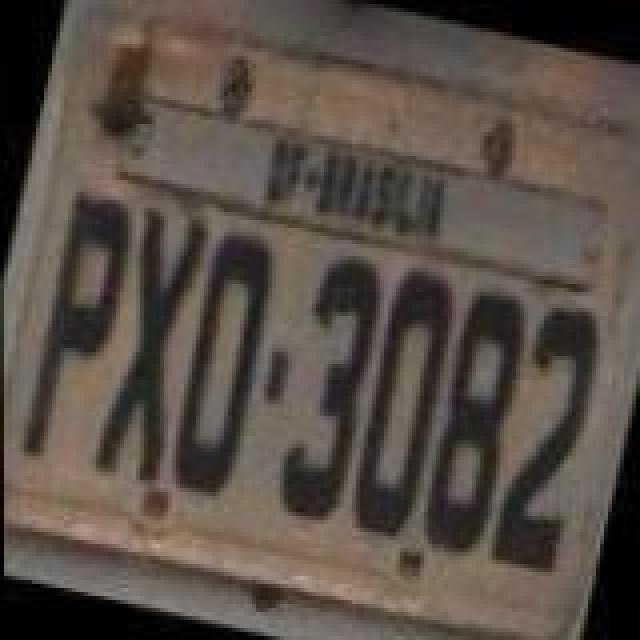2: (478, 298, 610, 582)
3: (262, 240, 394, 528)
8: (408, 280, 536, 564)
O: (336, 254, 464, 550), (158, 224, 286, 508)
P: (14, 190, 142, 474)
X: (88, 206, 220, 494)
